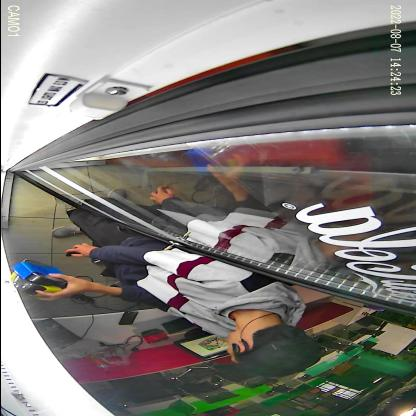blue: (12, 260, 66, 286)
yellow: (10, 271, 62, 296)
